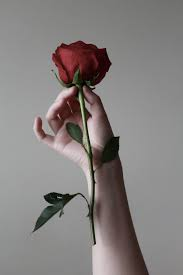lale: (47, 29, 117, 112)
